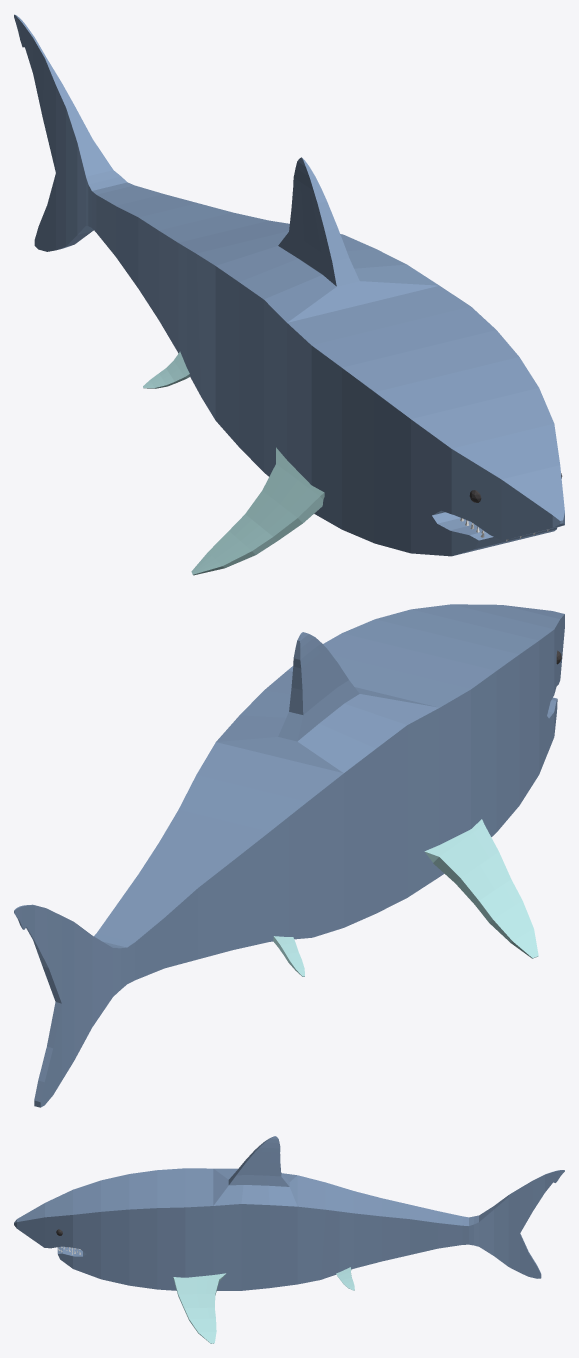
Rendered from Shark.fbx.
The picture shows the model from 3 angles, top to bottom: view 1: azimuth 30°, elevation 25°; view 2: azimuth 150°, elevation 25°; view 3: azimuth 270°, elevation 25°; orthographic projection. The views are drawn at different scales.
Parts seen in each view (by area): view 1: Shark; view 2: Shark; view 3: Shark.
Part boxes in pixels (<box>): Shark: <box>14,14,564,575</box>; Shark: <box>14,604,564,1107</box>; Shark: <box>14,1136,564,1343</box>.
Bounding box in the file's own units: 243 × 221 × 666.
